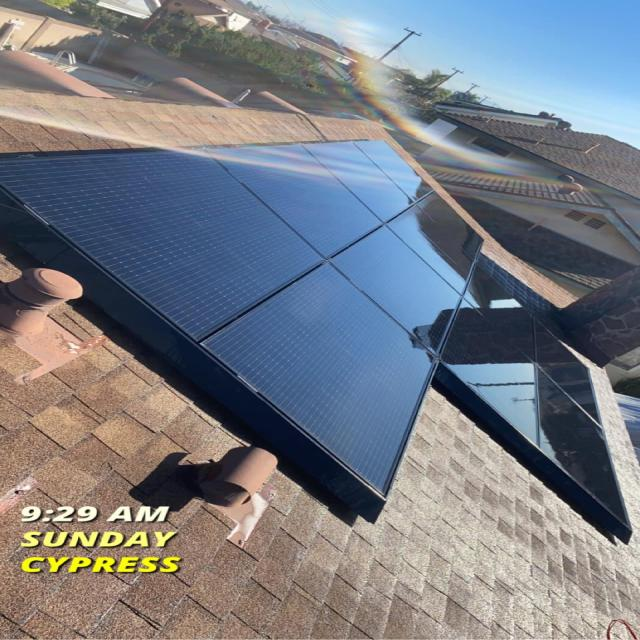clean-solar-panel: (2, 141, 487, 490), (443, 271, 625, 525)
